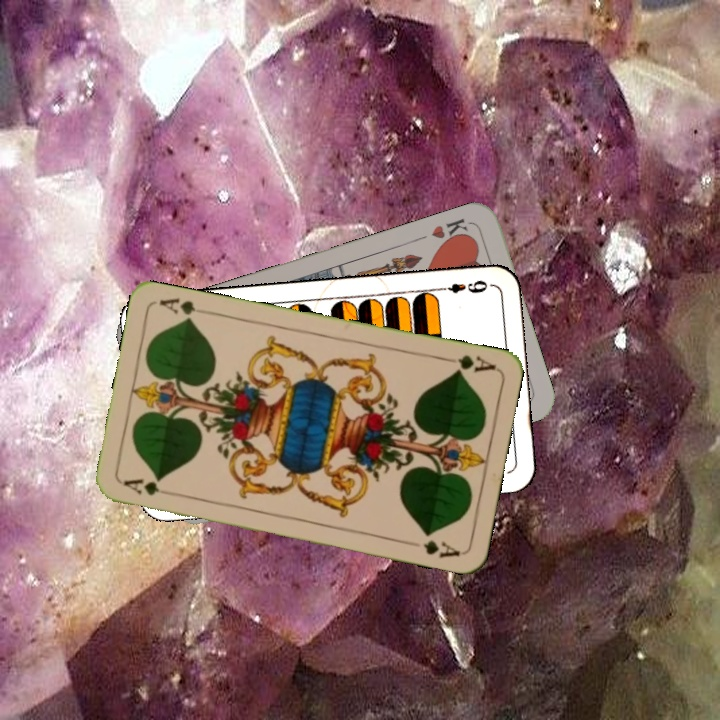E9: (434, 276, 490, 296)
GA: (438, 351, 498, 376), (119, 475, 178, 499)
HK: (427, 214, 473, 248)
